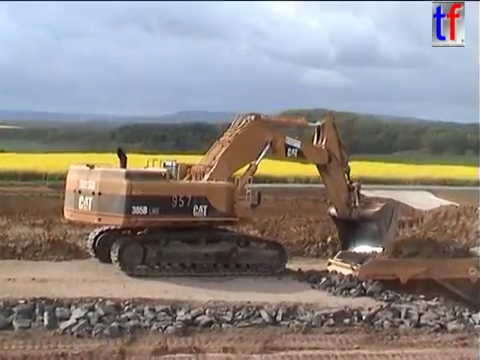excavator: (59, 109, 402, 280)
truck: (324, 244, 480, 334)
